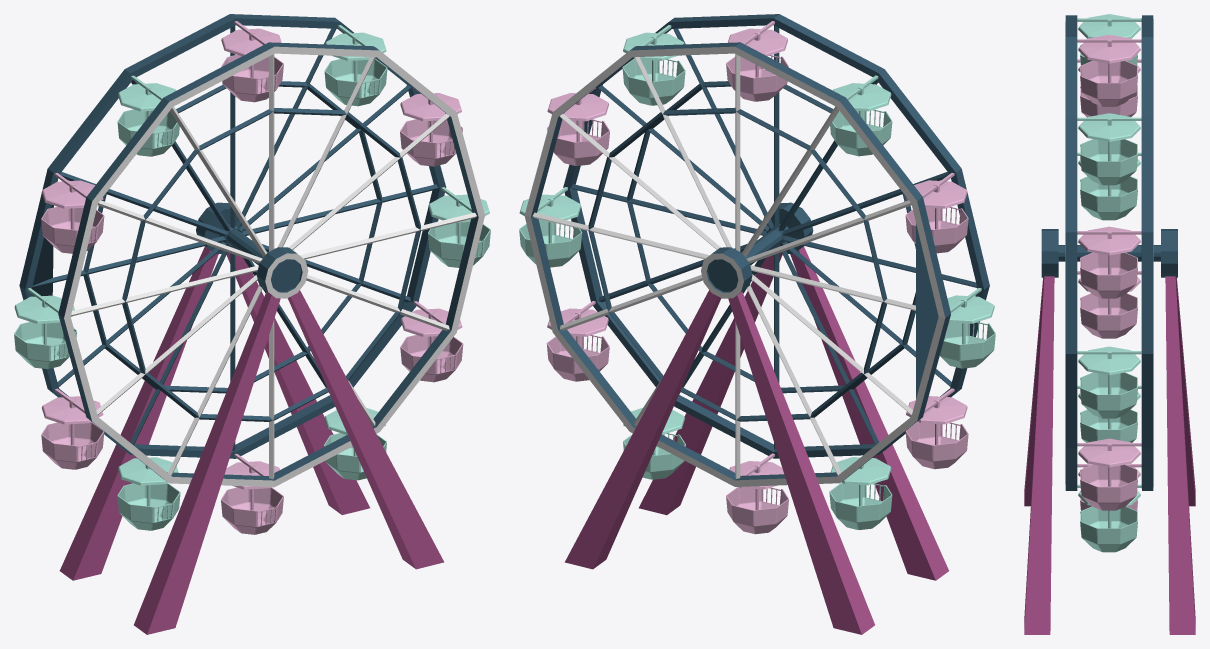
The model's file is FerrisWheelUNITY.fbx.
The picture shows the model from 3 angles, left to right: view 1: azimuth 30°, elevation 25°; view 2: azimuth 150°, elevation 25°; view 3: azimuth 270°, elevation 25°; orthographic projection.
Parts seen in each view (by area): view 1: Cylinder.006, Plane.002, Cube.005, Cube.004, Cube.002, Cube.007, Cube.009, Cube.001, Cube.010, Cube.003, Cube.006, Cube.011 (+2 smaller); view 2: Cylinder.006, Plane.002, Cube.005, Cube.004, Cube.002, Cube.007, Cube.009, Cube.006, Cube.010, Cube.001, Cube.003, Cube.011 (+2 smaller); view 3: Plane.002, Cylinder.006, Cube.009, Cube.011, Cube.012, Cube.010, Cube.006, Cube.008, Cube.005, Cube.002, Cube.004, Cube.003 (+2 smaller).
Boxes of the visible parts, bbox=[...] form: Cylinder.006: bbox=[19, 14, 484, 487]; Plane.002: bbox=[59, 246, 443, 634]; Cube.005: bbox=[41, 388, 104, 469]; Cube.004: bbox=[117, 457, 180, 530]; Cube.002: bbox=[14, 288, 76, 369]; Cube.007: bbox=[221, 453, 283, 534]; Cube.009: bbox=[324, 25, 387, 106]; Cube.001: bbox=[41, 173, 104, 253]; Cube.010: bbox=[400, 88, 462, 166]; Cube.003: bbox=[117, 75, 179, 156]; Cube.006: bbox=[221, 21, 283, 102]; Cube.011: bbox=[428, 187, 490, 267]; Cylinder.006: bbox=[524, 14, 989, 486]; Plane.002: bbox=[564, 246, 948, 634]; Cube.005: bbox=[905, 388, 968, 469]; Cube.004: bbox=[829, 457, 892, 529]; Cube.002: bbox=[940, 288, 995, 368]; Cube.007: bbox=[726, 453, 788, 534]; Cube.009: bbox=[622, 25, 685, 105]; Cube.006: bbox=[726, 21, 788, 101]; Cube.010: bbox=[547, 87, 609, 165]; Cube.001: bbox=[905, 173, 968, 253]; Cube.003: bbox=[830, 75, 892, 156]; Cube.011: bbox=[519, 187, 582, 267]; Plane.002: bbox=[1024, 276, 1195, 634]; Cylinder.006: bbox=[1041, 15, 1177, 490]; Cube.009: bbox=[1077, 113, 1141, 185]; Cube.011: bbox=[1077, 346, 1141, 418]; Cube.012: bbox=[1077, 438, 1141, 510]; Cube.010: bbox=[1077, 226, 1141, 298]; Cube.006: bbox=[1077, 35, 1141, 106]; Cube.008: bbox=[1077, 484, 1141, 552]; Cube.005: bbox=[1077, 271, 1141, 338]; Cube.002: bbox=[1077, 152, 1141, 220]; Cube.004: bbox=[1077, 385, 1141, 442]; Cube.003: bbox=[1077, 14, 1141, 65].
Bounding box in the file's own units: 559 × 611 × 180.
